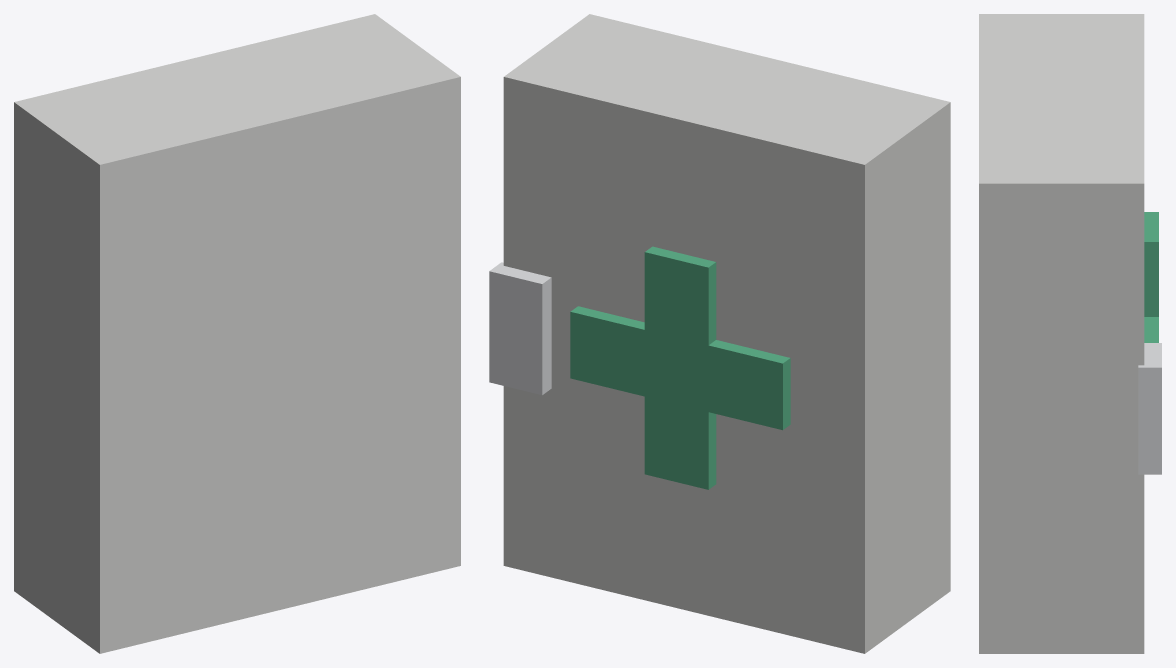
The model's file is first_aid_cabinet-PRIM-002.glb.
The picture shows the model from 3 angles, left to right: view 1: azimuth 30°, elevation 25°; view 2: azimuth 150°, elevation 25°; view 3: azimuth 270°, elevation 25°; orthographic projection. The views are drawn at different scales.
Visible parts, largest first — view 1: p0; view 2: p0, p2, p1, p3; view 3: p0, p3, p2, p1.
Part boxes in pixels (x1,y1,x2,y2): p0: (14,14,460,653); p0: (503,14,950,653); p2: (644,246,716,489); p1: (570,306,790,430); p3: (489,262,551,395); p0: (979,14,1144,653); p3: (1138,343,1161,474); p2: (1144,212,1158,316); p1: (1144,317,1158,342).
Size of the model in its own units: 0.345 by 0.44 by 0.155.
